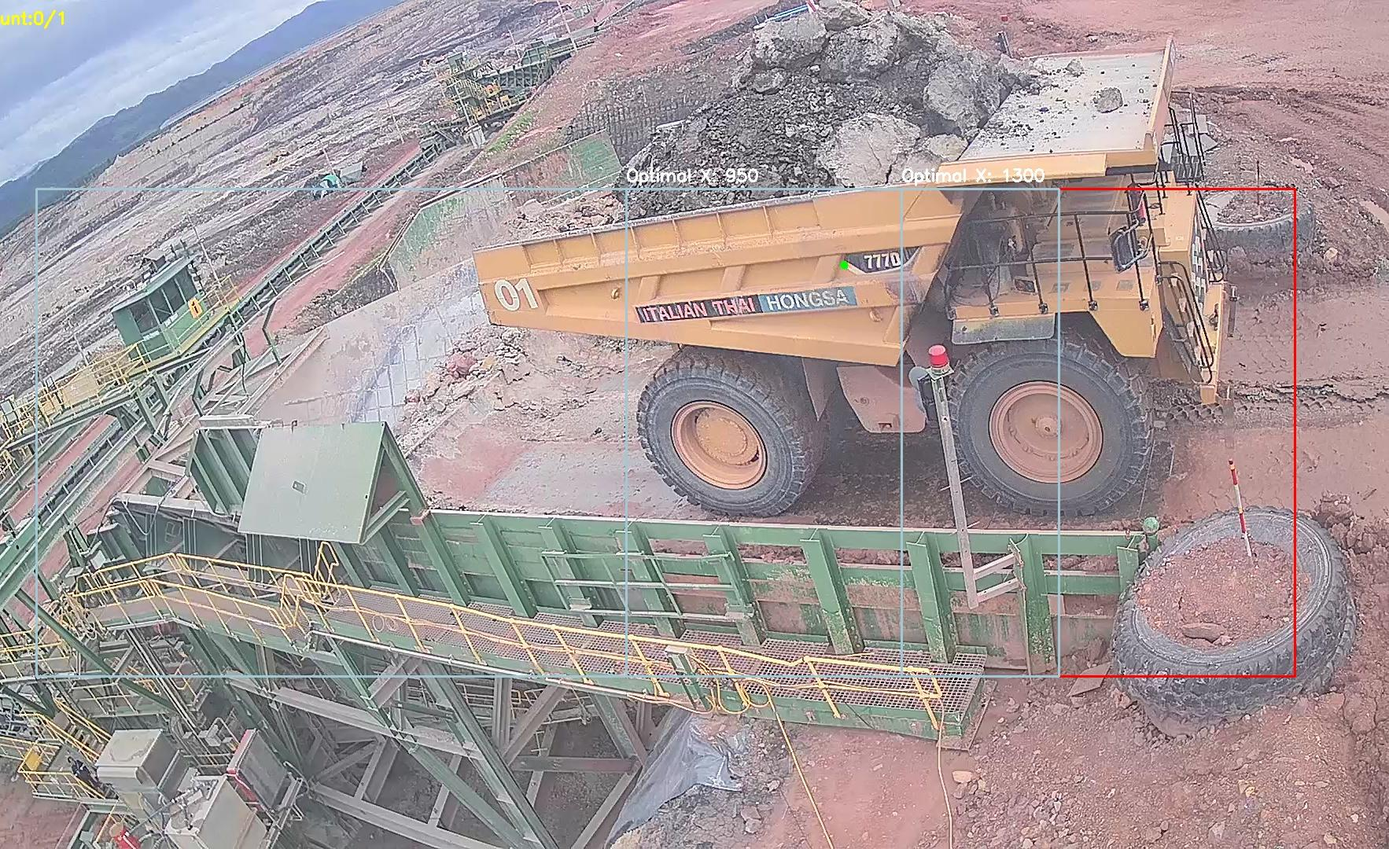company: (626, 281, 871, 332)
full_load: (633, 9, 999, 216)
mining_truck: (464, 6, 1251, 526)
tail_number: (479, 261, 554, 325)
truck_size: (839, 247, 927, 273)
